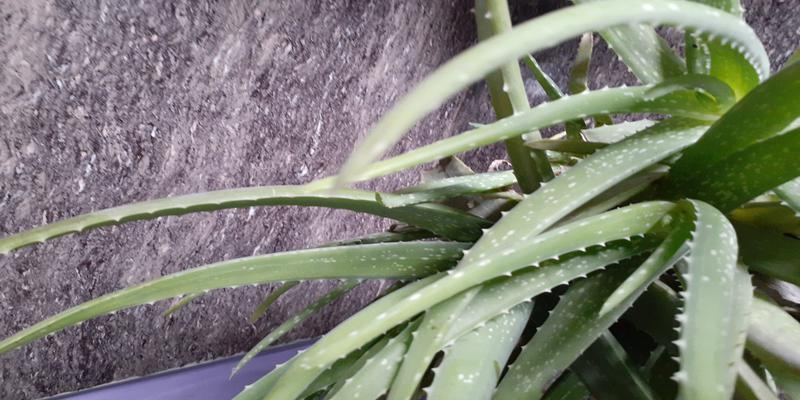Aloevera: (206, 68, 794, 383)
